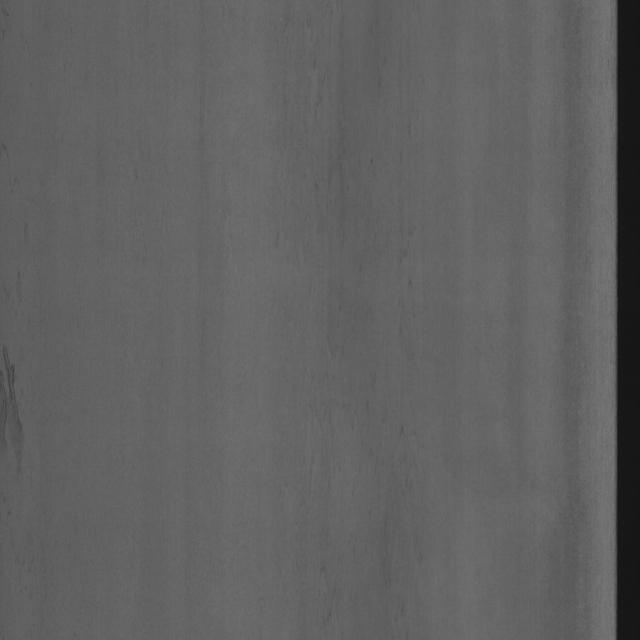inclusion: (270, 64, 441, 589)
water_spot: (2, 339, 56, 492)
